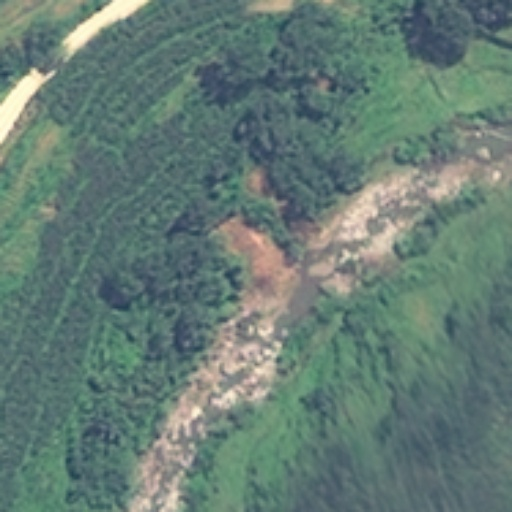landslide: (219, 213, 296, 290)
